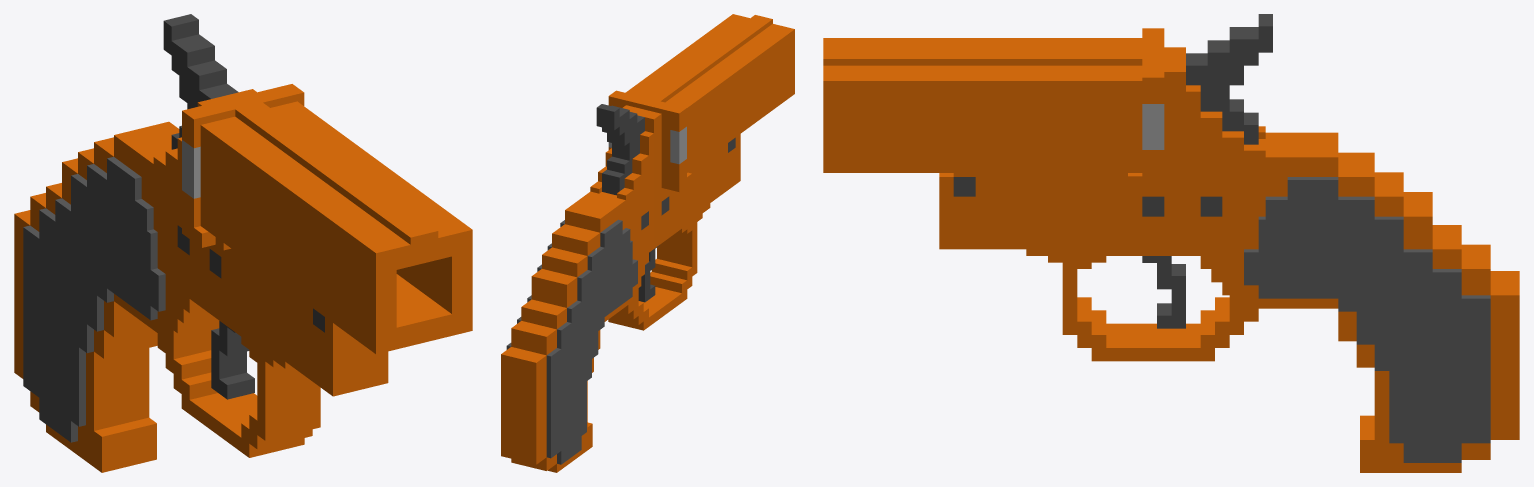
The model's file is flare_gun.fbx.
3 renders of one model, left to right at view 1: azimuth 30°, elevation 25°; view 2: azimuth 150°, elevation 25°; view 3: azimuth 270°, elevation 25°, orthographic. The views are drawn at different scales.
Parts seen in each view (by area): view 1: flare_gun_base, flare_gun_barrel, flare_gun_hammer, flare_gun_trigger; view 2: flare_gun_base, flare_gun_barrel, flare_gun_hammer, flare_gun_trigger; view 3: flare_gun_base, flare_gun_barrel, flare_gun_hammer, flare_gun_trigger.
Boxes of the visible parts, bbox=[...] form: flare_gun_base: bbox=[14, 84, 388, 472]; flare_gun_barrel: bbox=[200, 101, 472, 356]; flare_gun_hammer: bbox=[163, 14, 238, 149]; flare_gun_trigger: bbox=[211, 321, 254, 399]; flare_gun_base: bbox=[501, 90, 740, 472]; flare_gun_barrel: bbox=[625, 14, 794, 172]; flare_gun_hammer: bbox=[596, 104, 644, 195]; flare_gun_trigger: bbox=[638, 245, 659, 302]; flare_gun_base: bbox=[939, 28, 1519, 472]; flare_gun_barrel: bbox=[823, 38, 1142, 172]; flare_gun_hammer: bbox=[1186, 14, 1272, 144]; flare_gun_trigger: bbox=[1142, 256, 1185, 328].
Size of the model in its own units: 4.8 by 20.1 by 28.8.
